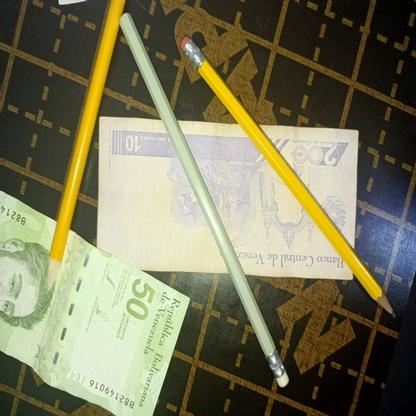fifty-front-vef: (0, 189, 191, 416)
ten-back-vef: (96, 115, 358, 280)
